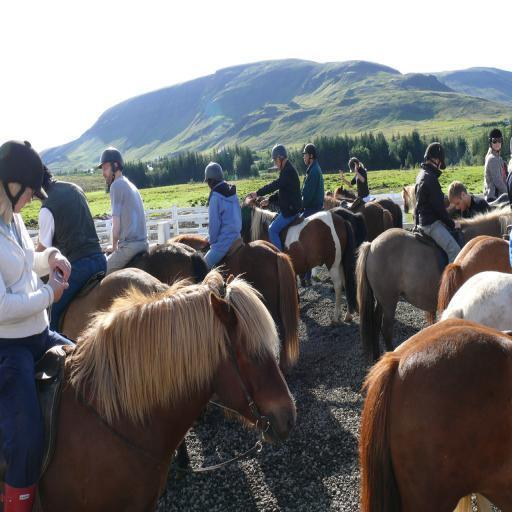horse: (0, 182, 404, 512), (358, 318, 512, 512), (352, 202, 512, 366), (436, 233, 512, 318), (444, 190, 497, 220)
